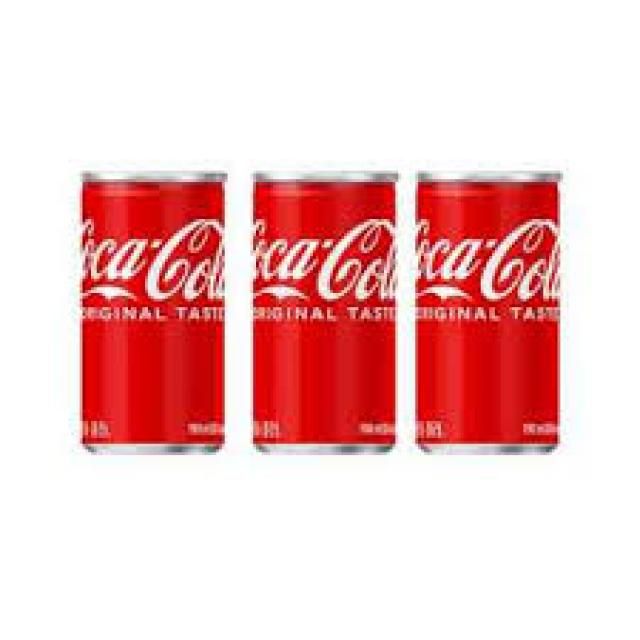Coca-Cola: (69, 158, 230, 463), (241, 157, 401, 461), (411, 155, 568, 463)
